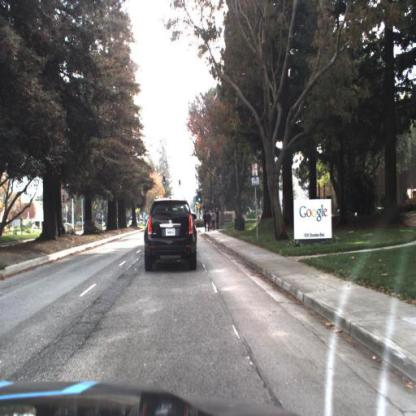car: (141, 196, 201, 276)
pedestrian: (217, 208, 221, 232), (213, 210, 217, 232), (204, 212, 208, 233), (209, 212, 211, 233)
trafficLight-Green: (194, 196, 200, 209), (162, 176, 167, 188), (199, 190, 203, 205), (178, 179, 182, 189)
